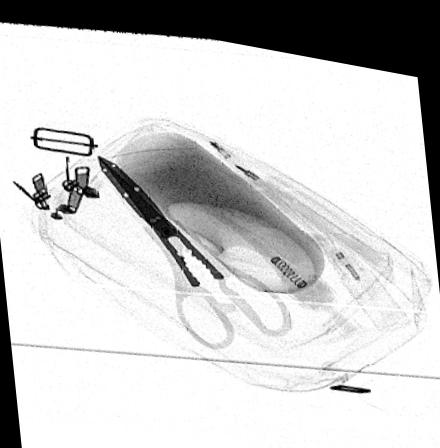Scissors: (97, 152, 292, 344)
